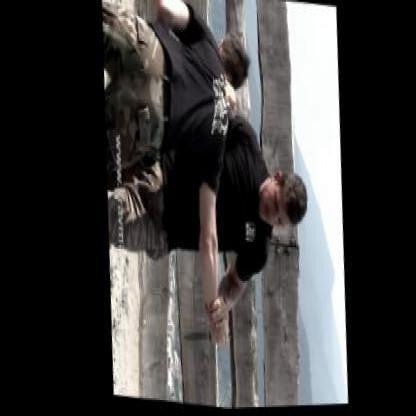knife: (174, 317, 228, 355)
